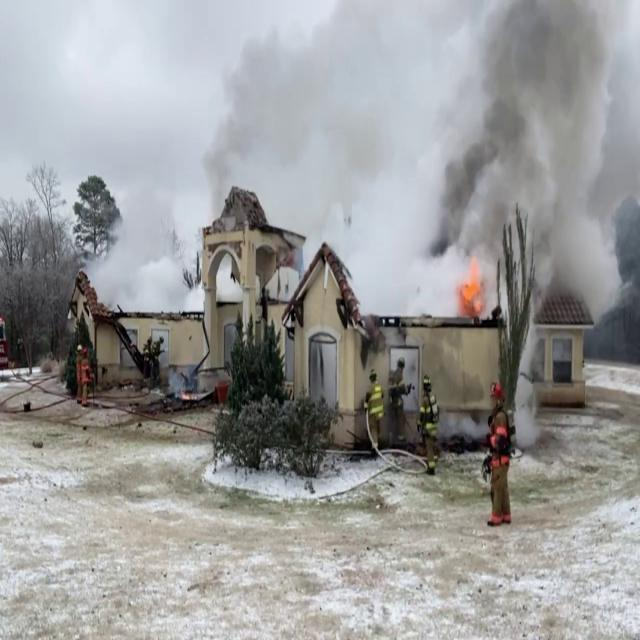Fire: (456, 257, 488, 315)
Smoke: (427, 0, 640, 313)
